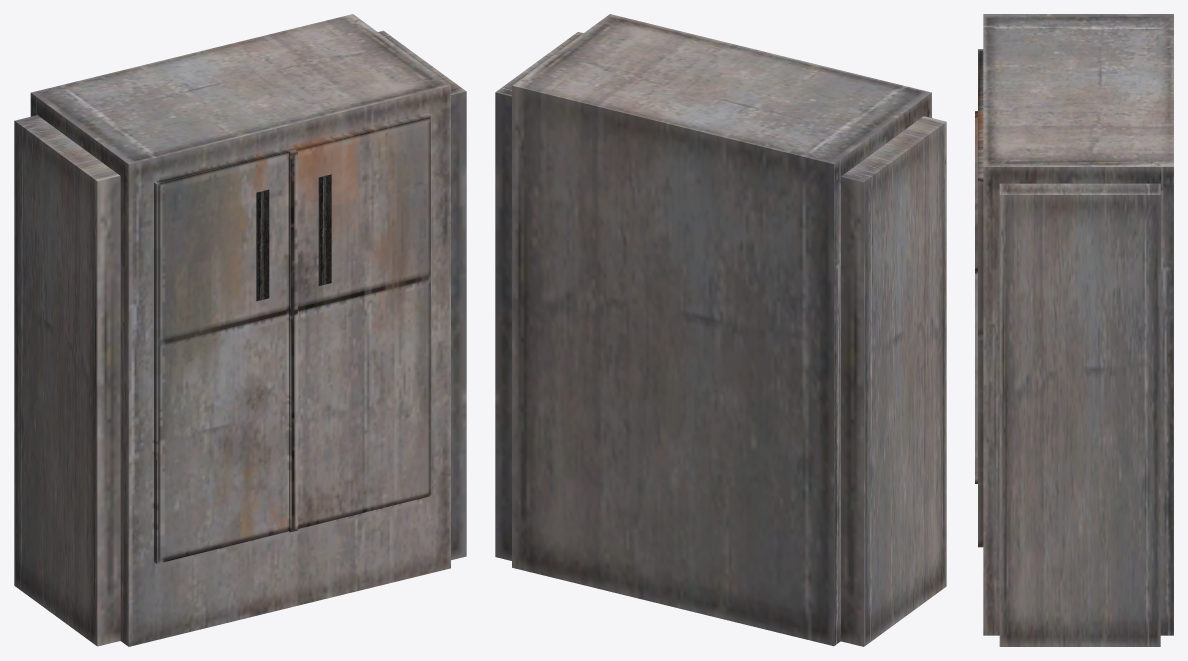
File: frn_all_chep_cabinet_s01_l1.fbx
3 views of the same model, side by side, from view 1: azimuth 30°, elevation 25°; view 2: azimuth 150°, elevation 25°; view 3: azimuth 270°, elevation 25° (orthographic). The views are drawn at different scales.
Visible parts, largest first — view 1: mesh_node; view 2: mesh_node; view 3: mesh_node.
Boxes of the visible parts, x1=… form: mesh_node: x1=14, y1=14, x2=466, y2=646; mesh_node: x1=495, y1=14, x2=946, y2=646; mesh_node: x1=975, y1=14, x2=1173, y2=646.
Size of the model in its own units: 1.44 by 1.8 by 0.6925.
1 material, 1 textured.
